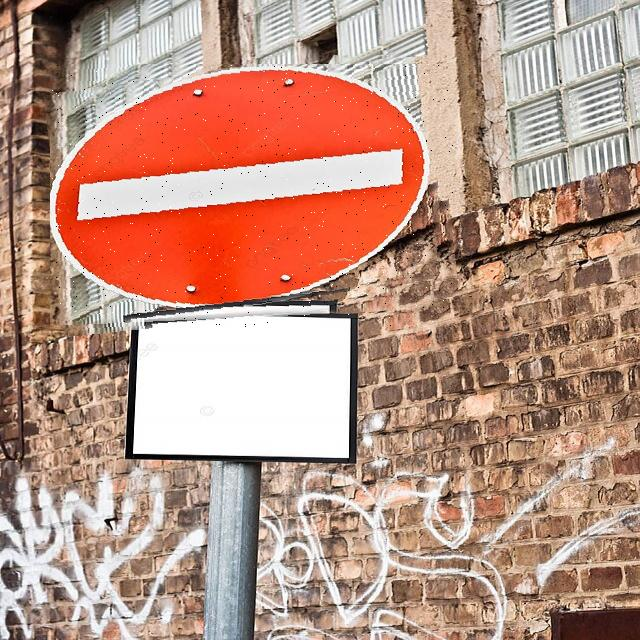no entry: (50, 64, 454, 327)
